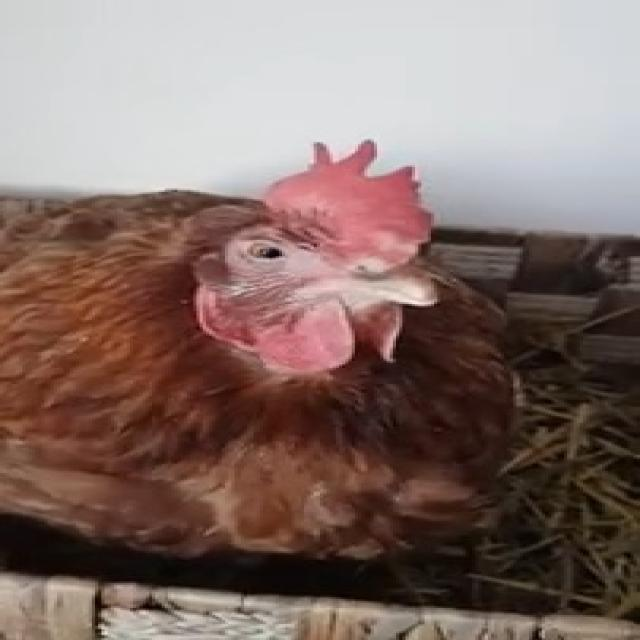Breathing: (0, 138, 520, 564)
